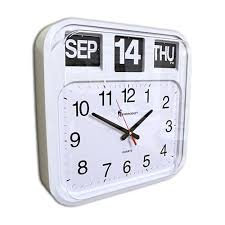alarm_clock: (32, 17, 187, 204), (32, 17, 187, 203)
